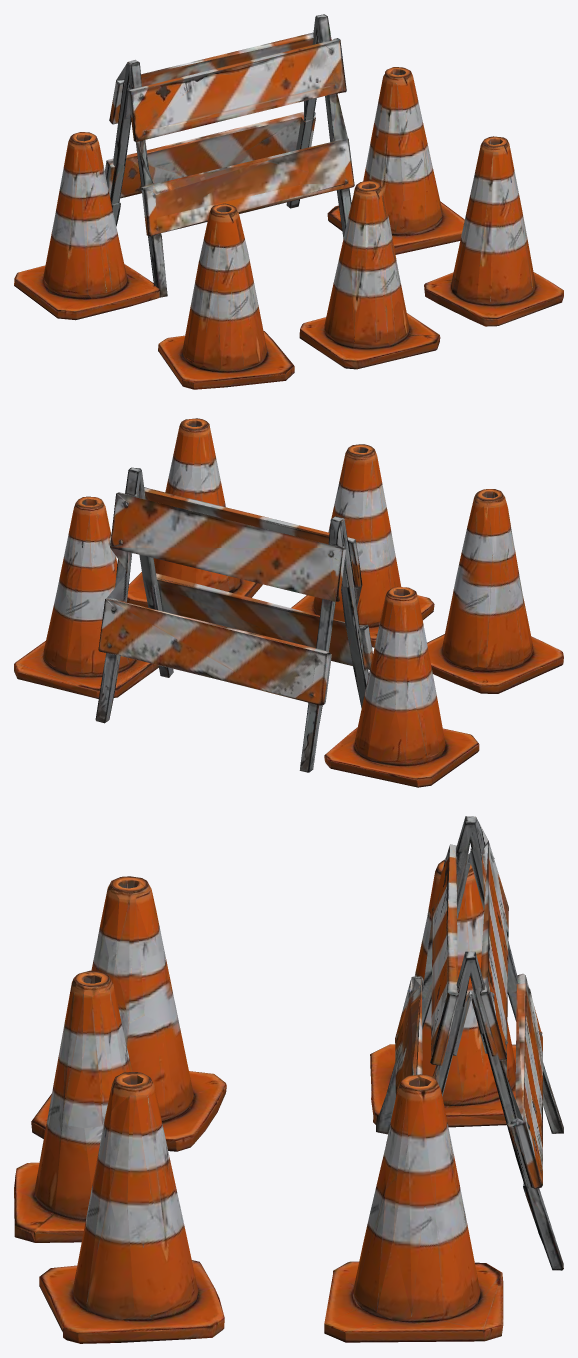
Rendered from traffic_cones.glb.
3 renders of one model, top to bottom at view 1: azimuth 30°, elevation 25°; view 2: azimuth 150°, elevation 25°; view 3: azimuth 270°, elevation 25°, orthographic. The views are drawn at different scales.
Size of the model in its own units: 1.9 by 0.967 by 1.53.
Materials: 1 (1 with a texture image).
